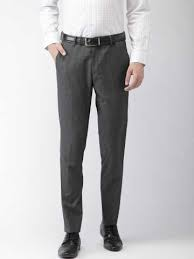F_belt: (56, 27, 130, 50)
F_dress pants: (52, 43, 130, 239)
